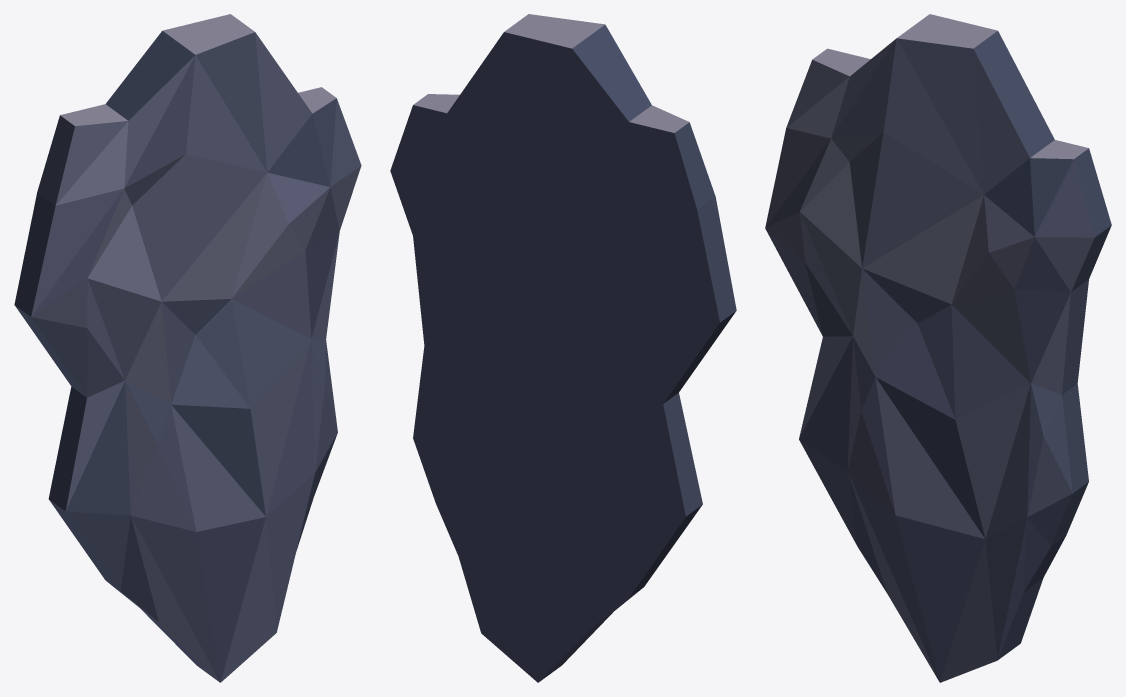
File: support-split-pillar.glb
The picture shows the model from 3 angles, left to right: view 1: azimuth 30°, elevation 25°; view 2: azimuth 150°, elevation 25°; view 3: azimuth 330°, elevation 25°; orthographic projection.
Visible parts, largest first — view 1: Split Pillar; view 2: Split Pillar; view 3: Split Pillar.
Boxes of the visible parts, box(x1,y1,x2,y2) form: Split Pillar: box(14, 14, 361, 682); Split Pillar: box(390, 14, 736, 682); Split Pillar: box(765, 14, 1111, 682).
Size of the model in its own units: 29 by 54 by 5.3.
